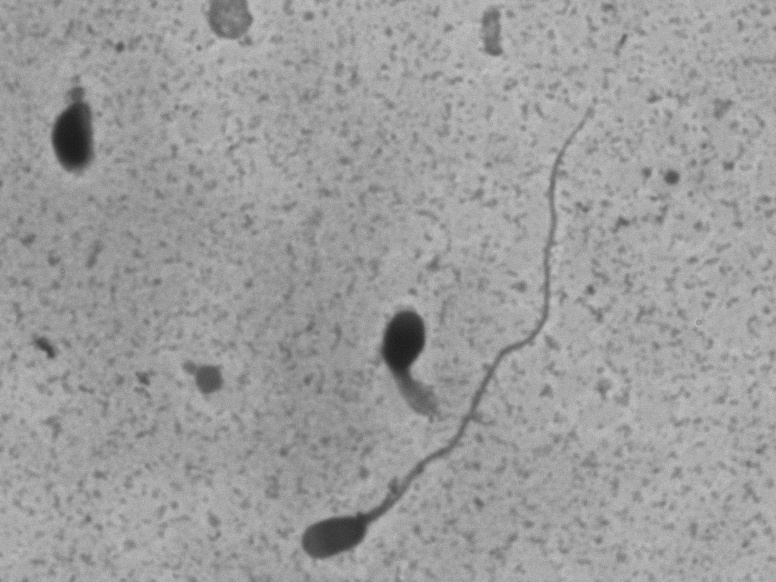Abnormal: (284, 57, 629, 571), (371, 279, 446, 438)
